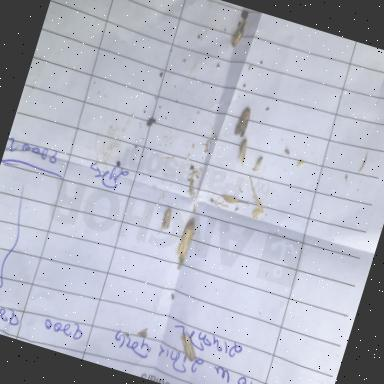pbw: (172, 331, 202, 367), (174, 218, 198, 262), (231, 104, 254, 142), (228, 20, 247, 52), (157, 206, 175, 234), (234, 137, 252, 163)
